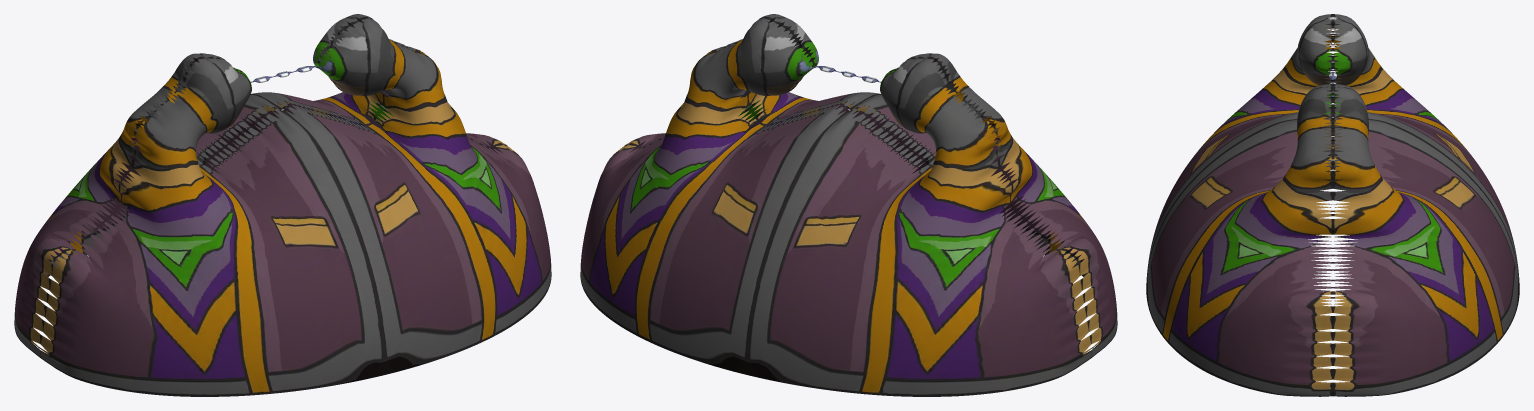
The model's file is reactor_gate.glb.
3 views of the same model, side by side, from view 1: azimuth 30°, elevation 25°; view 2: azimuth 150°, elevation 25°; view 3: azimuth 270°, elevation 25° (orthographic). The views are drawn at different scales.
Visible parts, largest first — view 1: reactor_gate; view 2: reactor_gate; view 3: reactor_gate.
Boxes of the visible parts, bbox=[...] form: reactor_gate: bbox=[14, 14, 551, 396]; reactor_gate: bbox=[580, 14, 1117, 396]; reactor_gate: bbox=[1146, 14, 1519, 396].
Size of the model in its own units: 0.9883 by 0.508 by 0.7214.
Materials: 1 (1 with a texture image).
